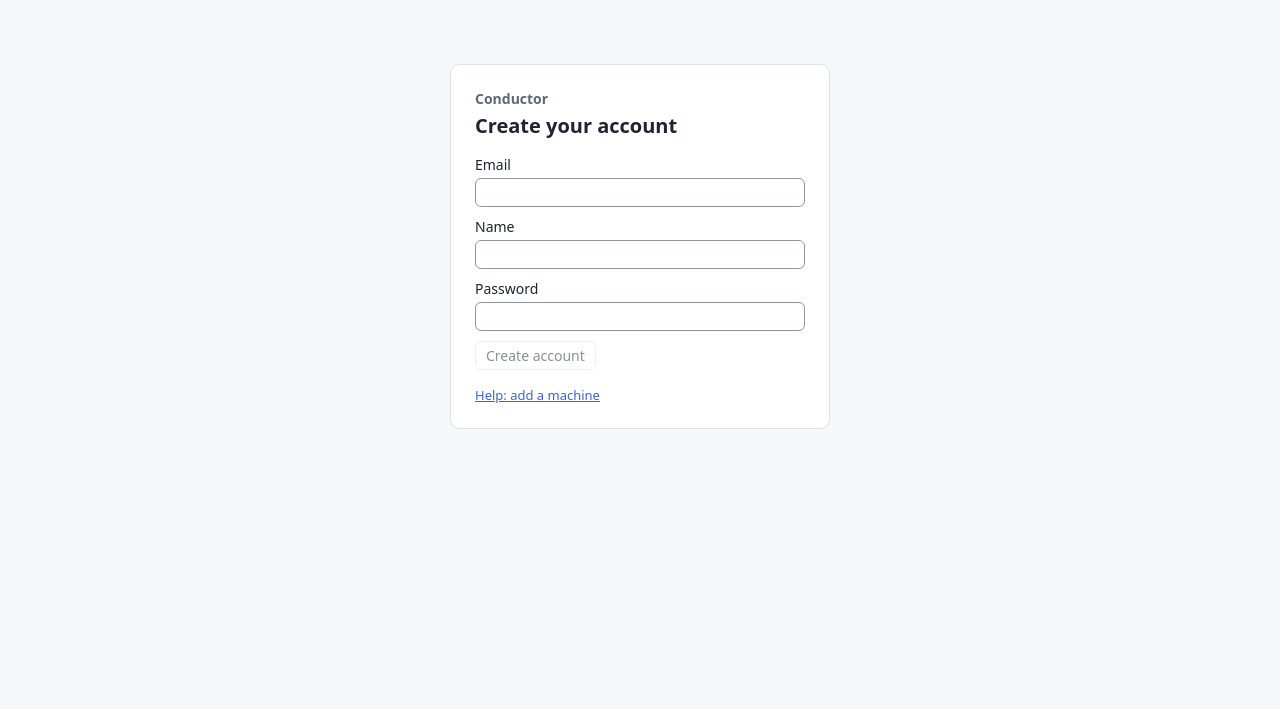
Scenario: /signup › signs up with an open invite and lands on the board, signed in
Type "sam@example.com" into the field labelled "Email" at (640, 192), box 475,178 -> 805,207
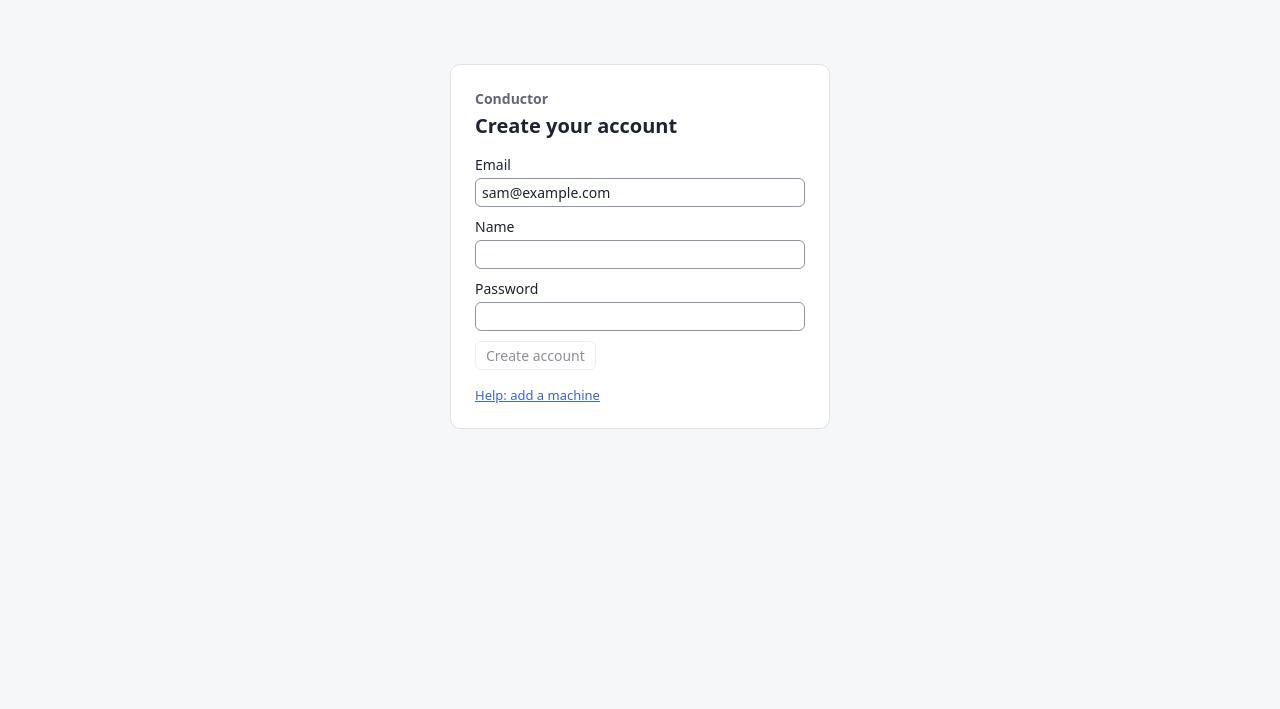
Type "Sam" into the field labelled "Name" at (640, 254), box 475,240 -> 805,269
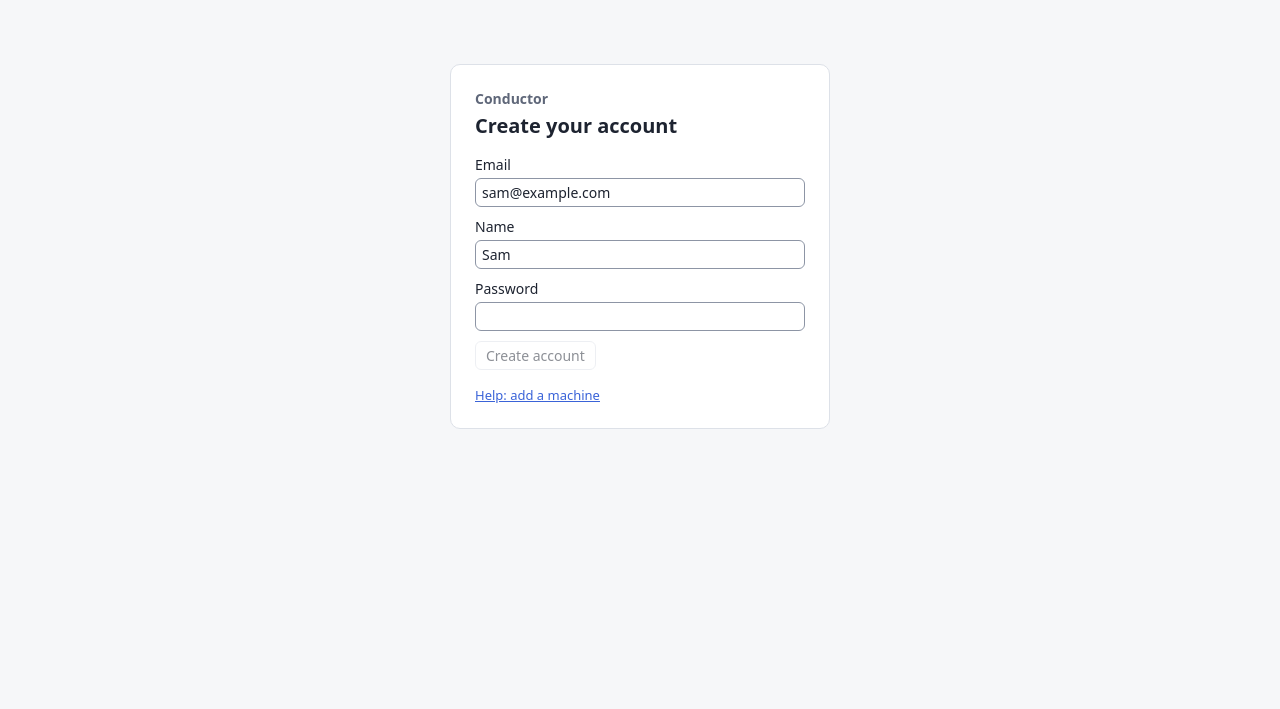
Type "a long enough passphrase" into the password field labelled "Password" at (640, 316), box 475,302 -> 805,331
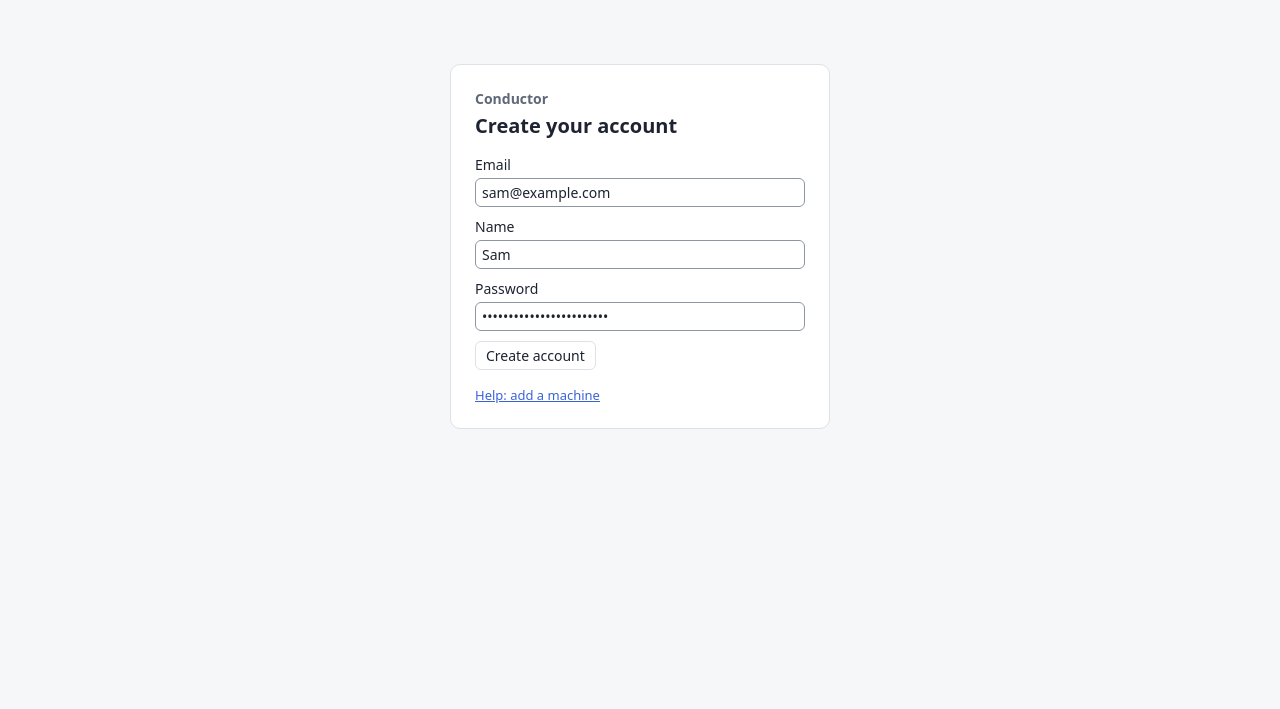
Click the button "Create account" at (535, 356), box 475,341 -> 596,370
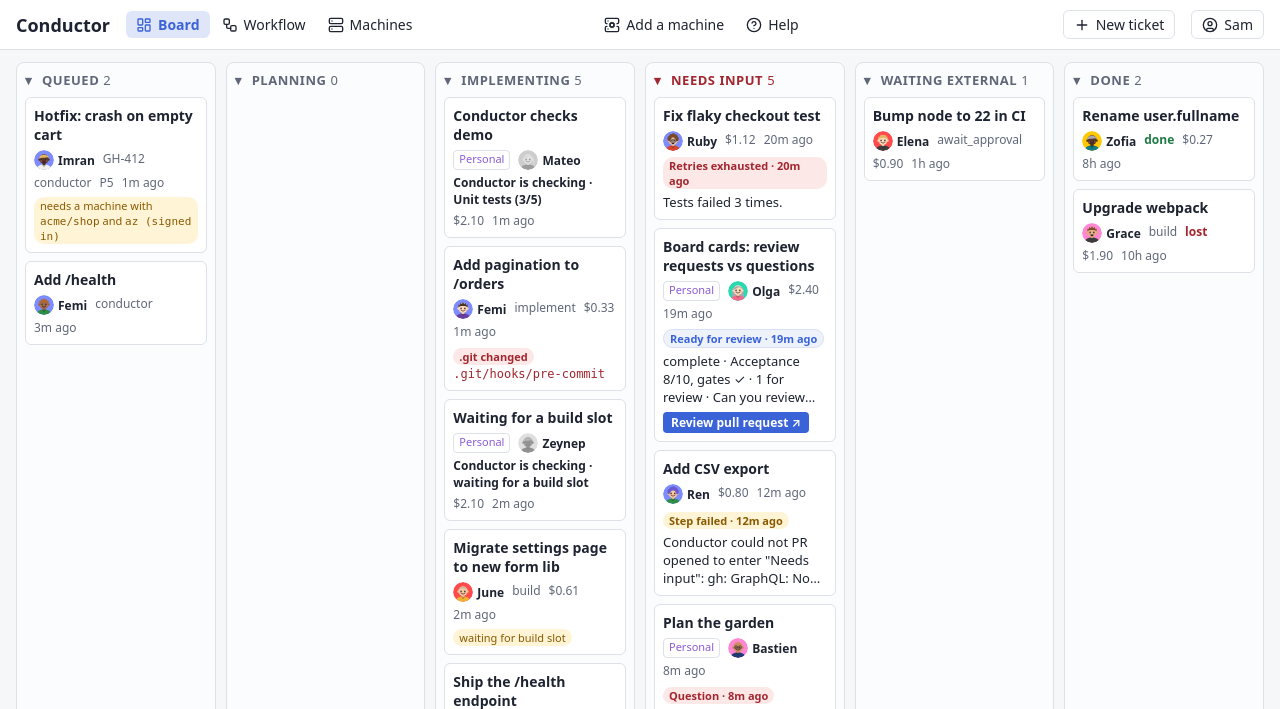
Expected: the button "Sam" is shown, 1191,10 -> 1264,39
